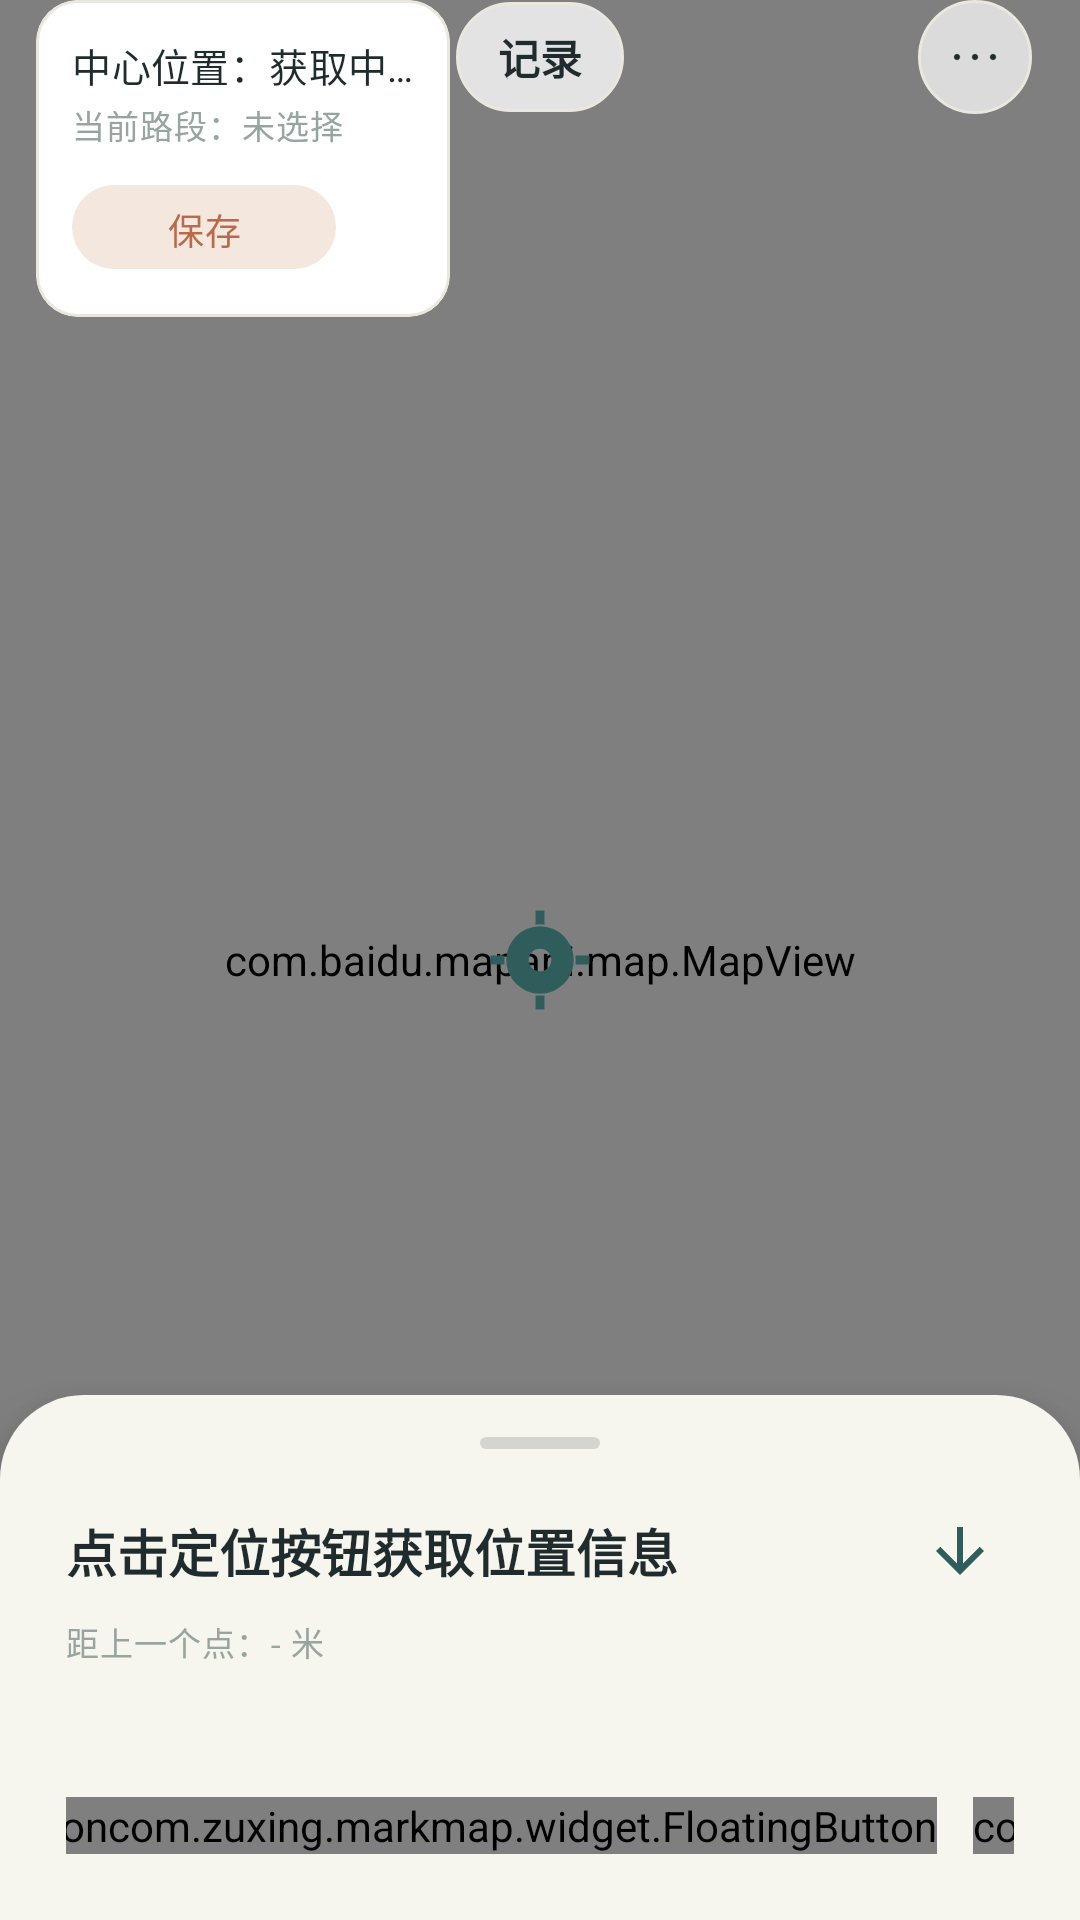

Icon click points for this 1080px×1920px phone screenshot, format (x,y):
中心标记: (540,960)
更多: (975,57)
